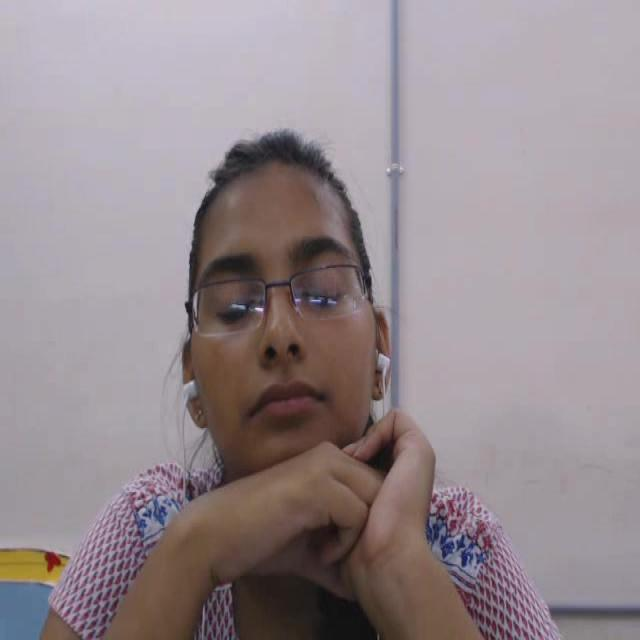Bored: (129, 88, 436, 567)
